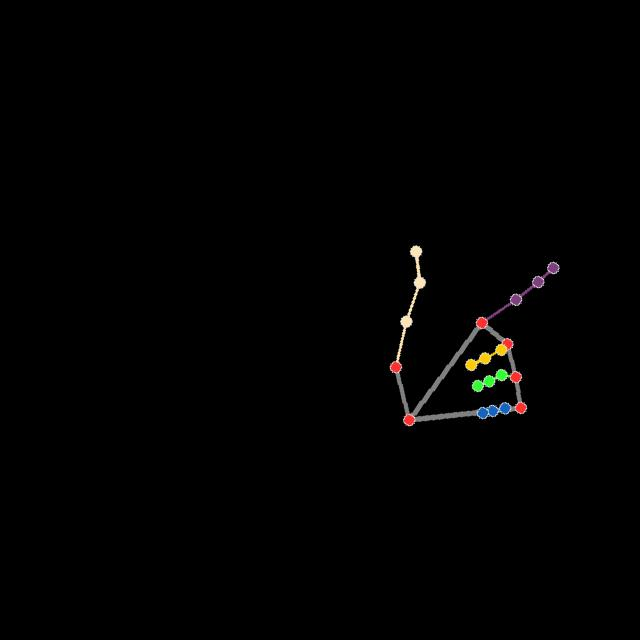gun: (387, 245, 560, 429)
